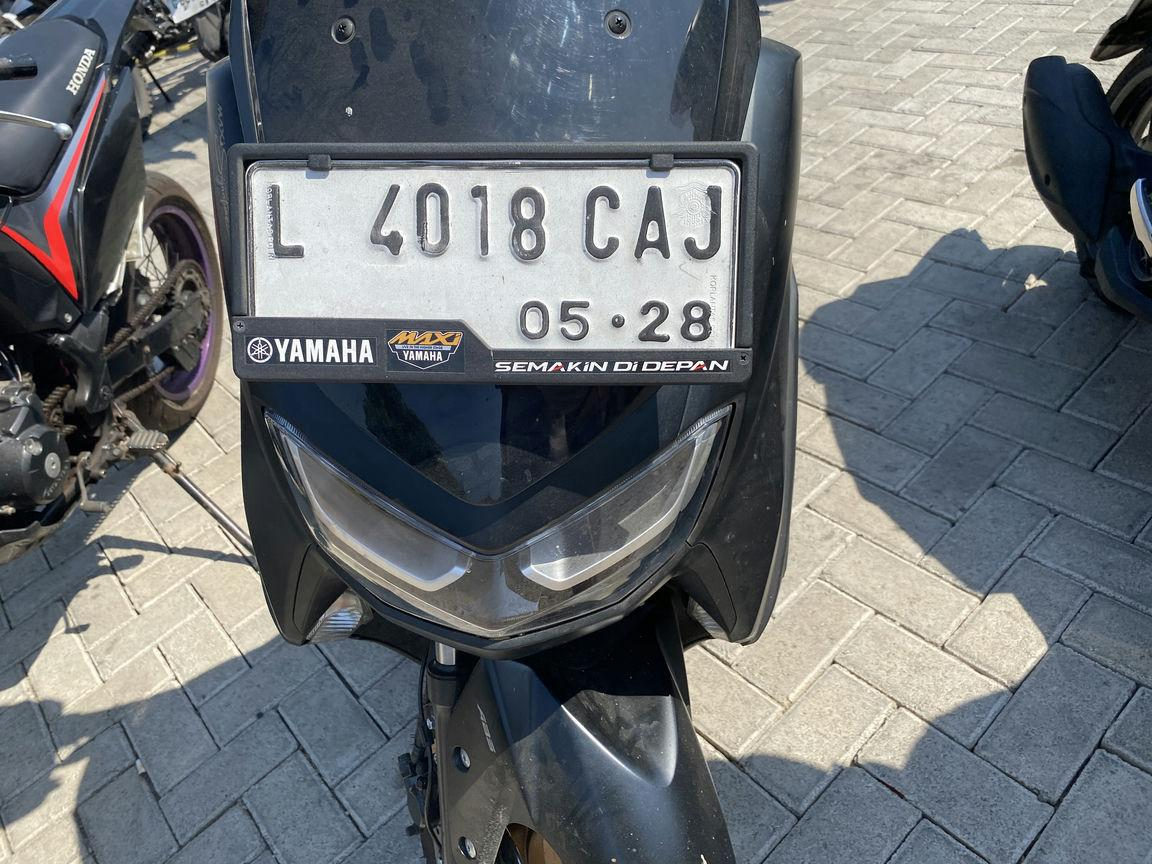plat: (245, 160, 740, 362)
